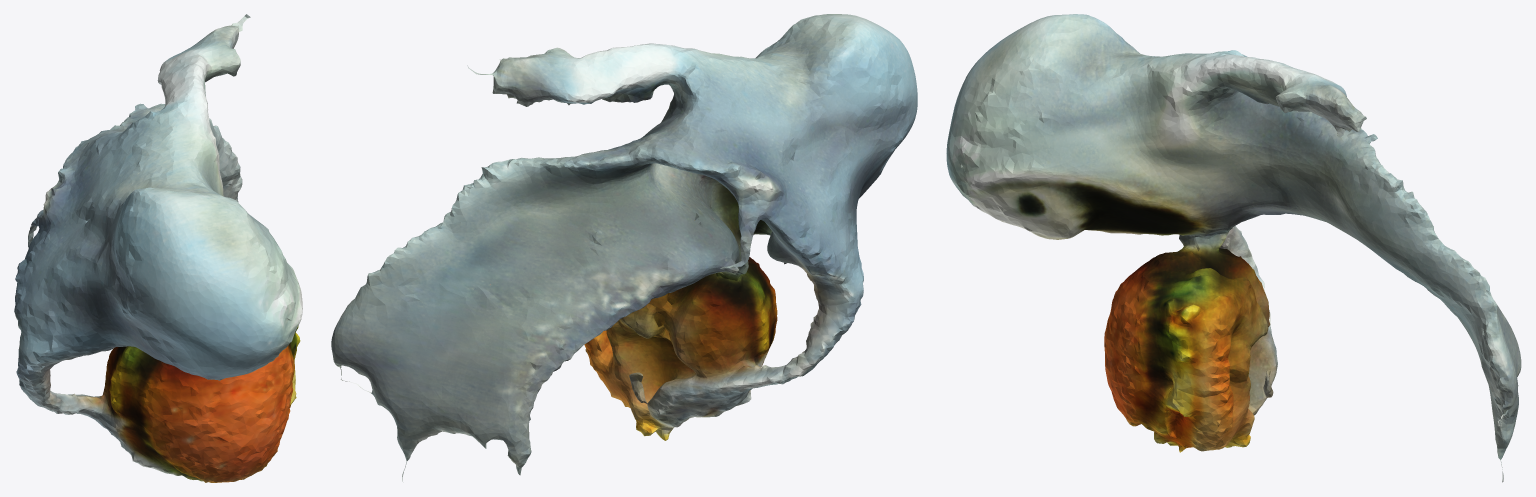
The picture shows the model from 3 angles, left to right: view 1: azimuth 30°, elevation 25°; view 2: azimuth 150°, elevation 25°; view 3: azimuth 270°, elevation 25°; orthographic projection. The views are drawn at different scales.
Bounding box in the file's own units: 1.3 × 1.32 × 1.72.
Materials: 1 (1 with a texture image).
